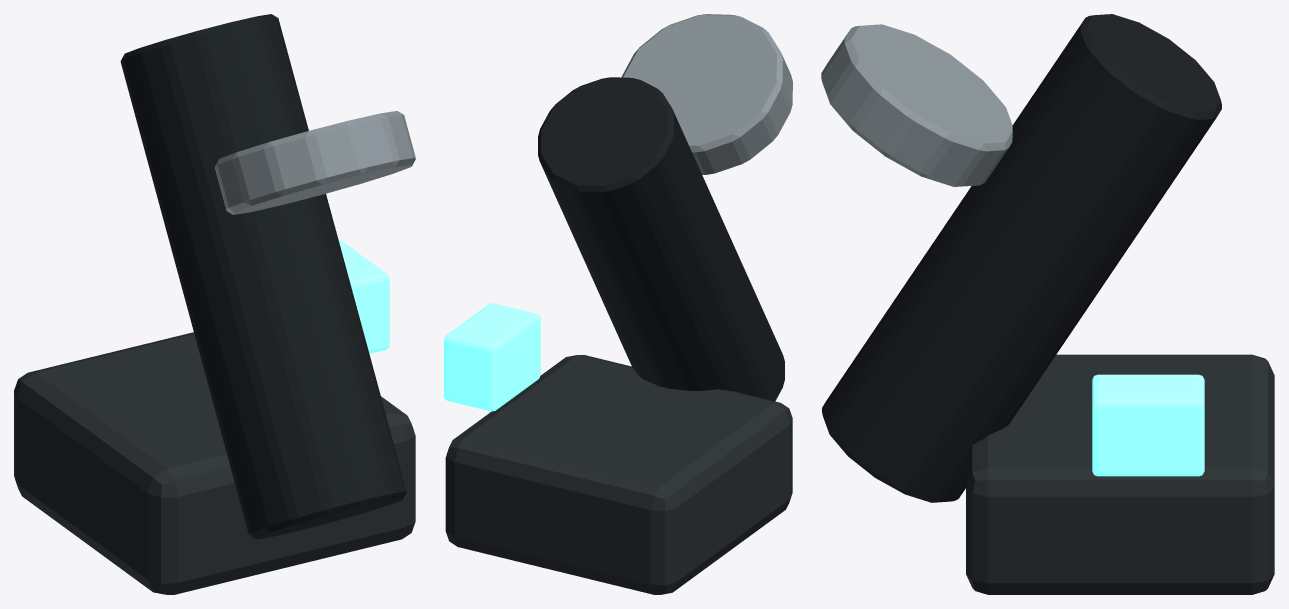
Rendered from weapon_mortar.glb.
3 views of the same model, side by side, from view 1: azimuth 30°, elevation 25°; view 2: azimuth 150°, elevation 25°; view 3: azimuth 270°, elevation 25° (orthographic). The views are drawn at different scales.
Visible parts, largest first — view 1: tube, base, tube_ring, sight; view 2: base, tube, tube_ring, sight; view 3: tube, base, tube_ring, sight.
Boxes of the visible parts, x1,y1,x2,y2 form: tube: [120, 14, 406, 539]; base: [14, 332, 415, 594]; tube_ring: [215, 111, 415, 214]; sight: [338, 238, 389, 353]; base: [445, 355, 792, 594]; tube: [538, 77, 784, 401]; tube_ring: [621, 14, 792, 174]; sight: [444, 303, 540, 411]; tube: [822, 14, 1221, 502]; base: [966, 354, 1274, 594]; tube_ring: [821, 24, 1012, 186]; sight: [1092, 374, 1204, 476].
Size of the model in its own units: 1.23 by 2.01 by 1.61.
